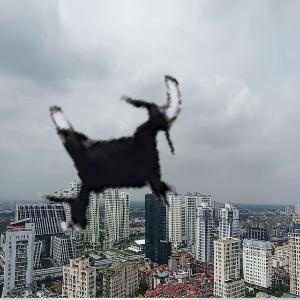drone: (12, 51, 213, 252)
